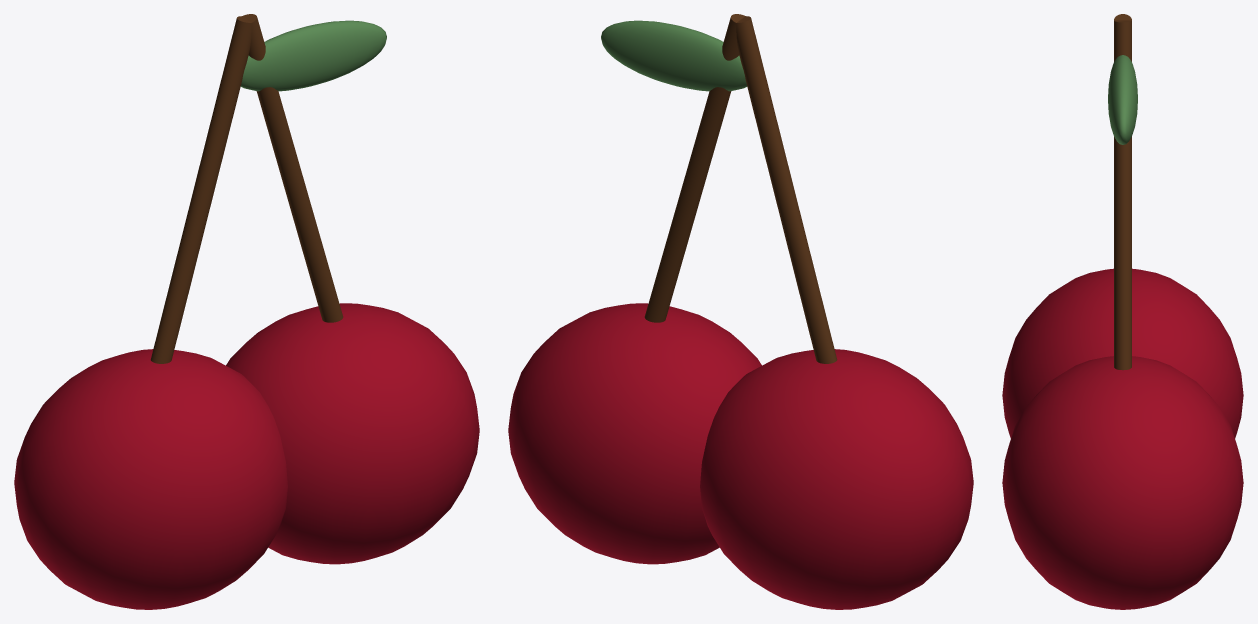
The model's file is wp-cerise.glb.
The picture shows the model from 3 angles, left to right: view 1: azimuth 30°, elevation 25°; view 2: azimuth 150°, elevation 25°; view 3: azimuth 270°, elevation 25°; orthographic projection. The views are drawn at different scales.
Visible parts, largest first — view 1: wp-cerise; view 2: wp-cerise; view 3: wp-cerise.
Part boxes in pixels (x1=…): wp-cerise: x1=14, y1=14, x2=479, y2=609; wp-cerise: x1=508, y1=14, x2=973, y2=609; wp-cerise: x1=1002, y1=14, x2=1243, y2=609.
Bounding box in the file's own units: 0.09 × 0.11 × 0.045.
